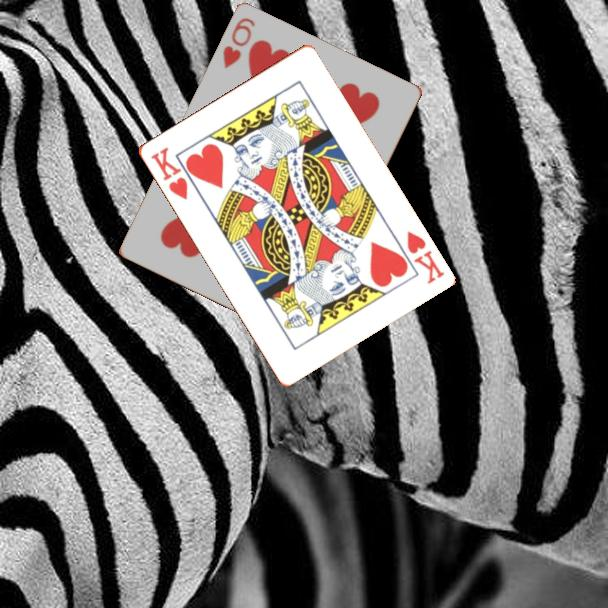h06: (219, 14, 258, 72)
h13: (403, 227, 447, 287), (147, 143, 190, 203)
